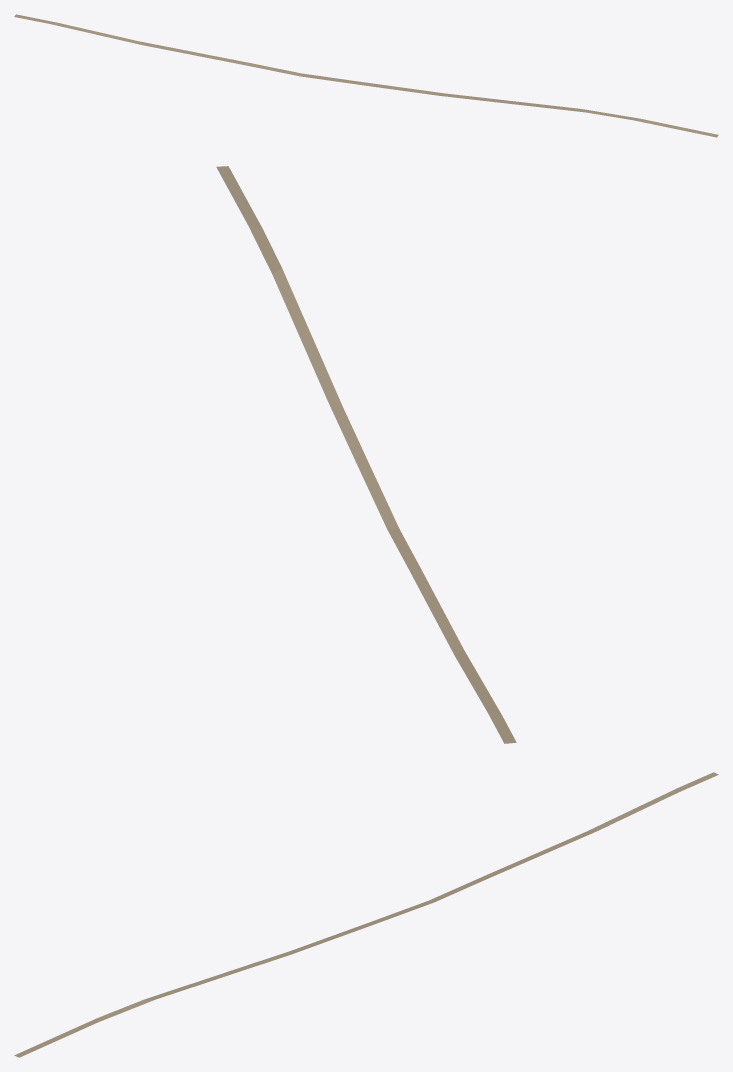
The model's file is farm_21_20_track.glb.
3 renders of one model, top to bottom at view 1: azimuth 30°, elevation 25°; view 2: azimuth 150°, elevation 25°; view 3: azimuth 270°, elevation 25°, orthographic. The views are drawn at different scales.
Visible parts, largest first — view 1: geometry_0; view 2: geometry_0; view 3: geometry_0.
Part boxes in pixels (left/top/right/bottom): geometry_0: left=14, top=14, right=718, bottom=137; geometry_0: left=216, top=166, right=516, bottom=743; geometry_0: left=14, top=772, right=718, bottom=1057.
Size of the model in its own units: 256 by 11.16 by 292.
